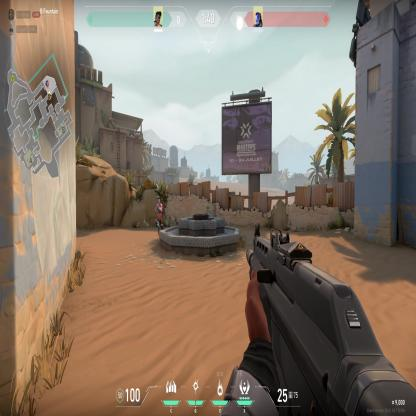enemy: (154, 198, 165, 230)
